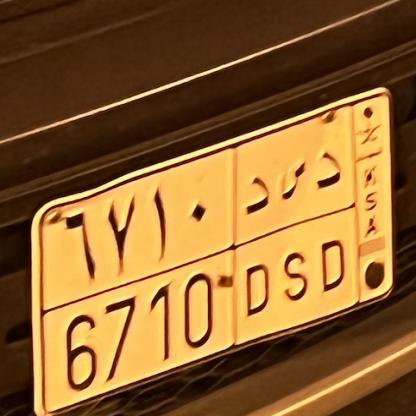english: (45, 238, 378, 390)
